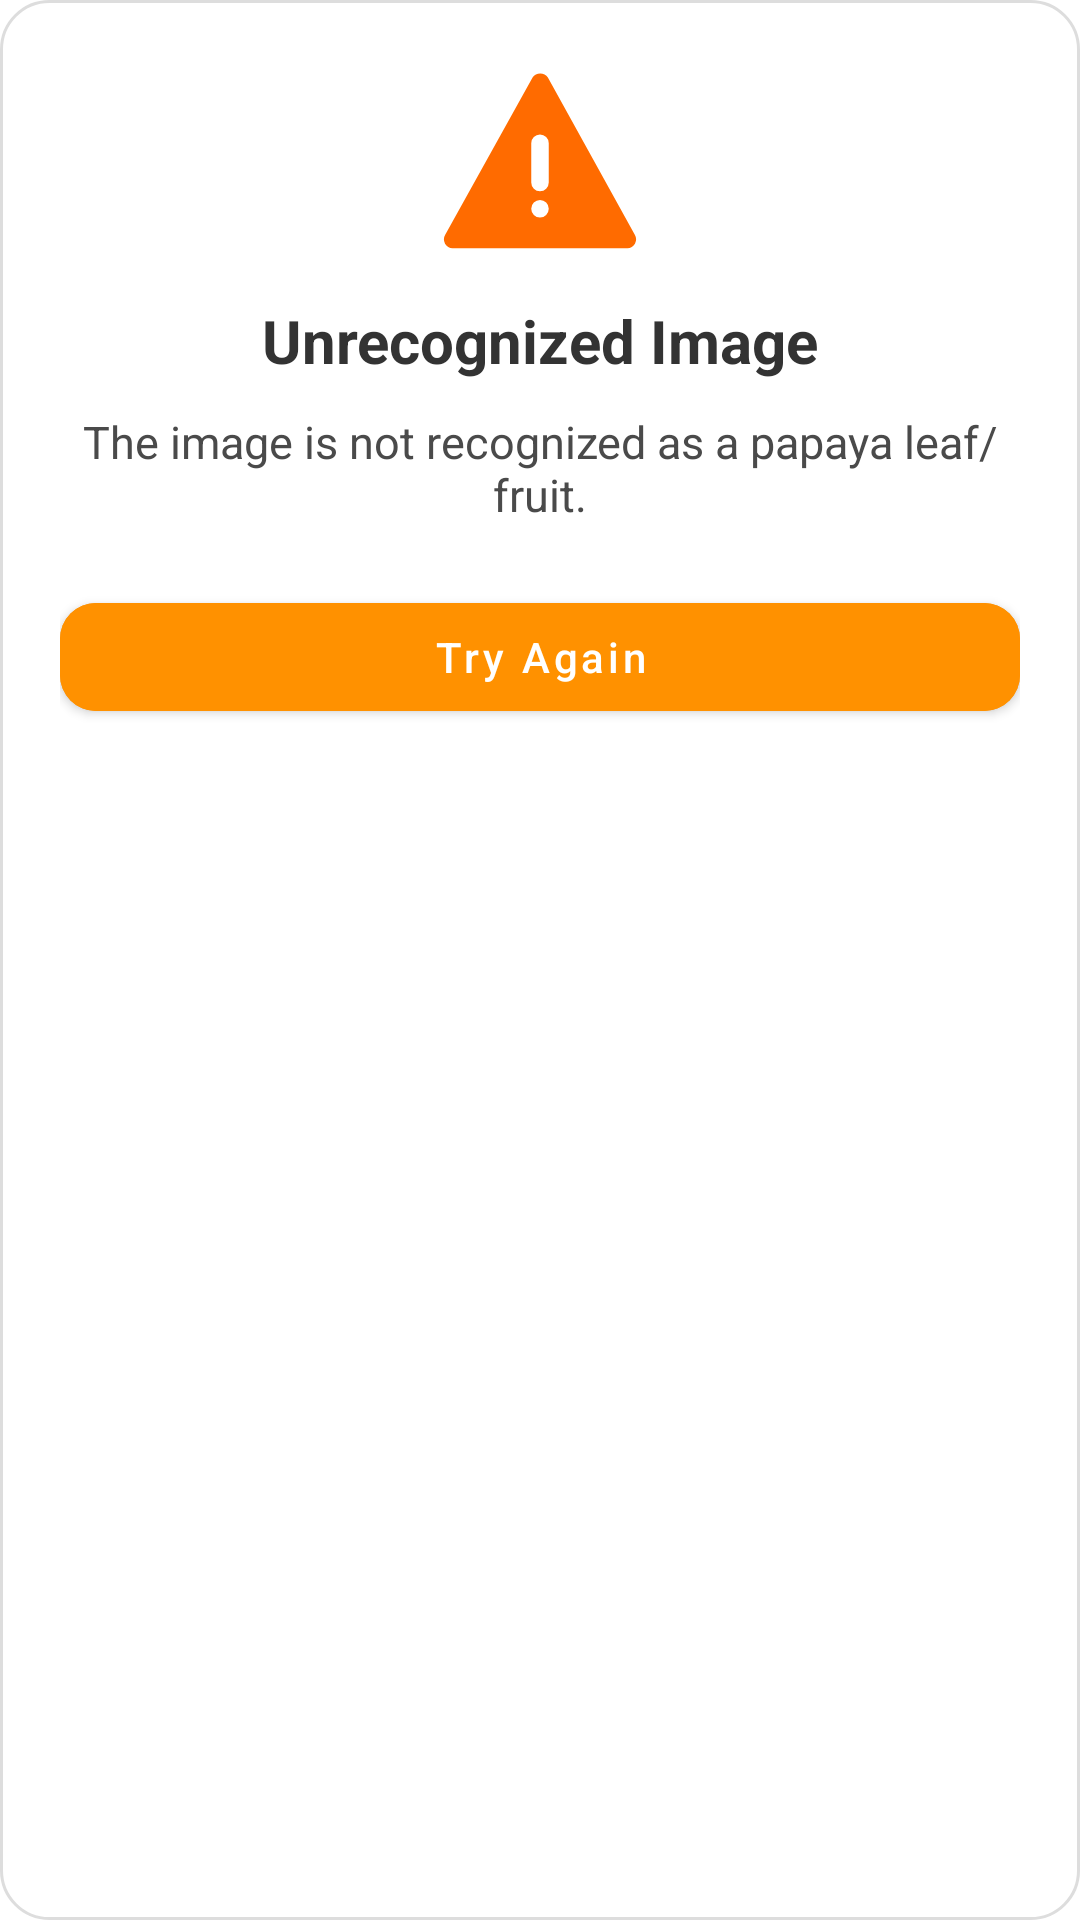

Icon bounding boxes for this 1080w x 1920h phone screenshot, format (x1, y1, x2, y2):
warning: (444, 73, 636, 249)
